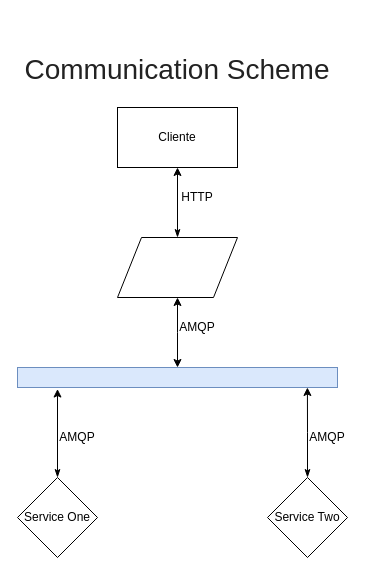
This 365x575 diagram has some shape labels left out. The box of each missing label's shape, as (x1, y1, x2, y2) in pixels:
Gateway: (116, 236, 238, 298)
RabbitMQ: (16, 366, 338, 388)
